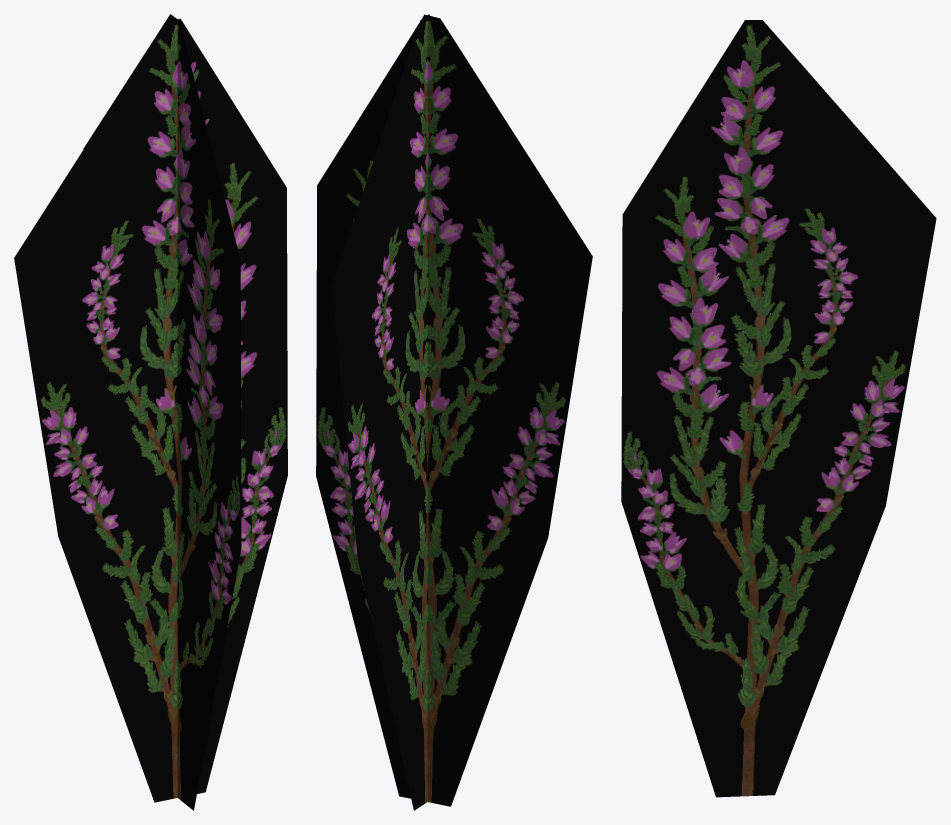
File: SM_HeatherFlower_02.fbx
3 views of the same model, side by side, from view 1: azimuth 30°, elevation 25°; view 2: azimuth 150°, elevation 25°; view 3: azimuth 270°, elevation 25° (orthographic).
Visible parts, largest first — view 1: SM_HeatherFlower_02_LOD0; view 2: SM_HeatherFlower_02_LOD0; view 3: SM_HeatherFlower_02_LOD0.
Part boxes in pixels (x1,y1,x2,y2): SM_HeatherFlower_02_LOD0: (14,14,287,810); SM_HeatherFlower_02_LOD0: (316,14,592,810); SM_HeatherFlower_02_LOD0: (621,20,936,797).
Bounding box in the file's own units: 21.46 × 21.46 × 58.39.
